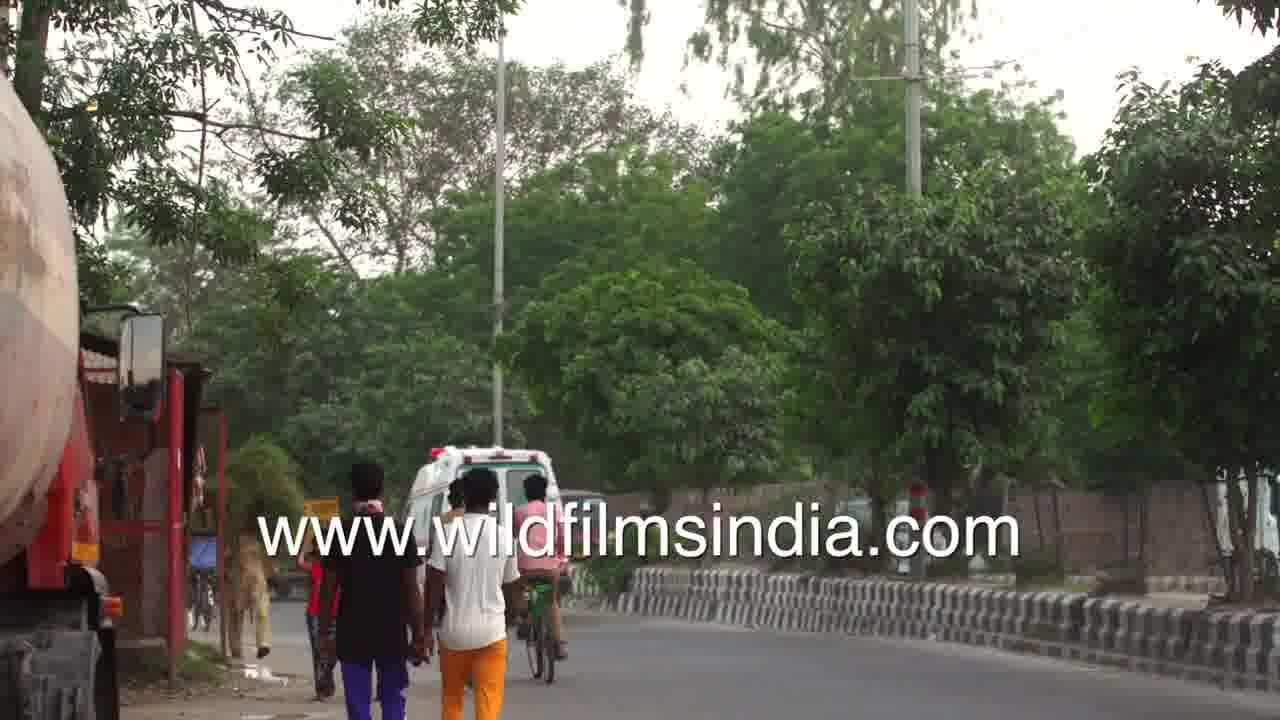AMBULANCE: (415, 448, 551, 481)
